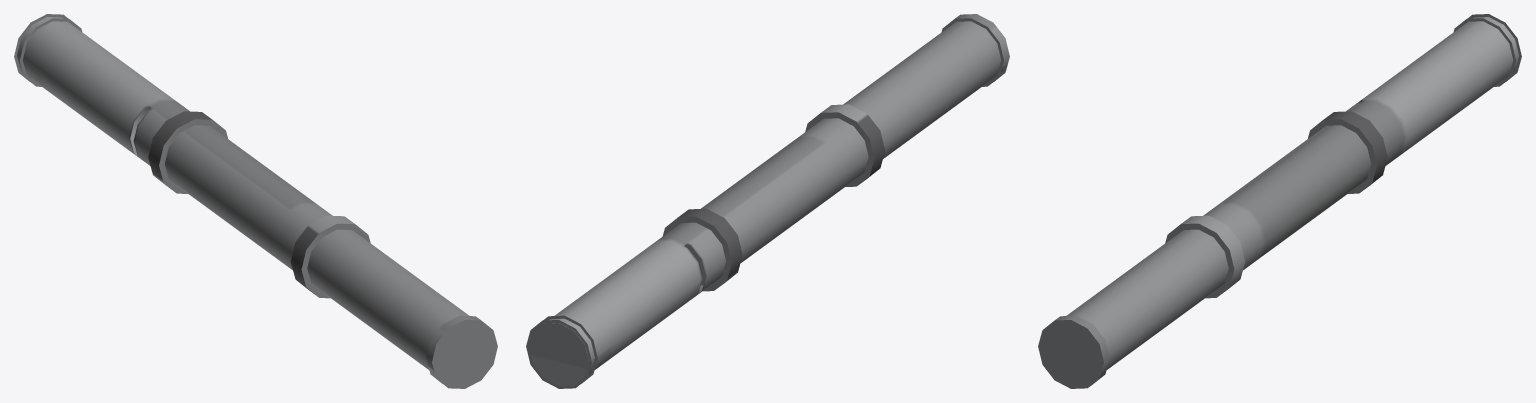
3 views of the same model, side by side, from view 1: azimuth 30°, elevation 25°; view 2: azimuth 150°, elevation 25°; view 3: azimuth 330°, elevation 25° (orthographic).
Size of the model in its own units: 0.23 by 0.23 by 2.32.
